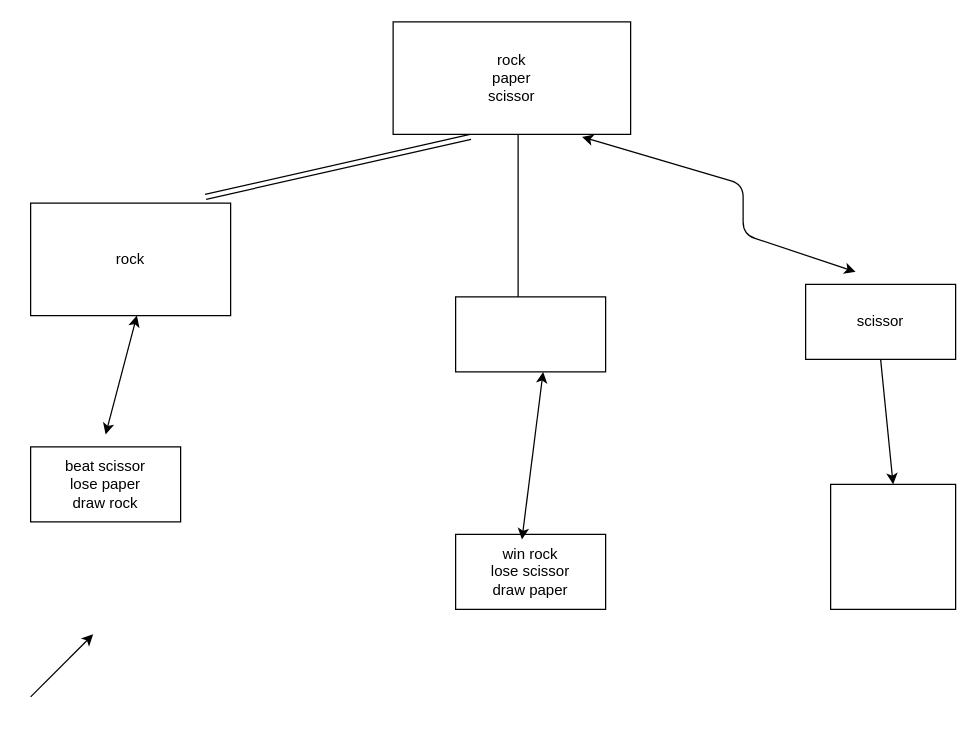
This 978x729 diagram has some shape labels left out. Here are the shapes that lost their labels. From the top down, the centre of each, then its label:
the point at 530,334: paper
the point at 892,546: win paper lose rock draw scissor
